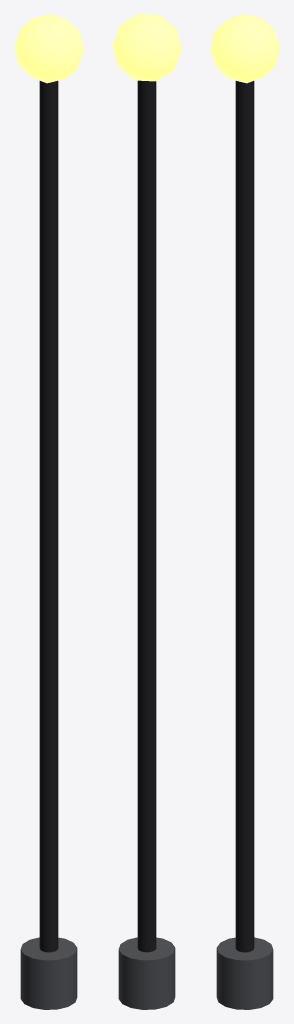
Rendered from antenna_whip.fbx.
The picture shows the model from 3 angles, left to right: view 1: azimuth 30°, elevation 25°; view 2: azimuth 210°, elevation 25°; view 3: azimuth 330°, elevation 25°; orthographic projection.
Visible parts, largest first — view 1: whip_1, base_1, em_amber_1; view 2: whip_1, base_1, em_amber_1; view 3: whip_1, base_1, em_amber_1.
Part boxes in pixels (x1,y1,x2,y2): whip_1: (39, 81, 58, 952); base_1: (20, 937, 77, 1009); em_amber_1: (14, 14, 83, 83); whip_1: (137, 80, 156, 952); base_1: (118, 937, 175, 1009); em_amber_1: (112, 14, 181, 81); whip_1: (235, 81, 254, 952); base_1: (216, 937, 273, 1009); em_amber_1: (210, 14, 279, 83).
Bounding box in the file's own units: 0.00591 × 0.0914 × 0.00562.
